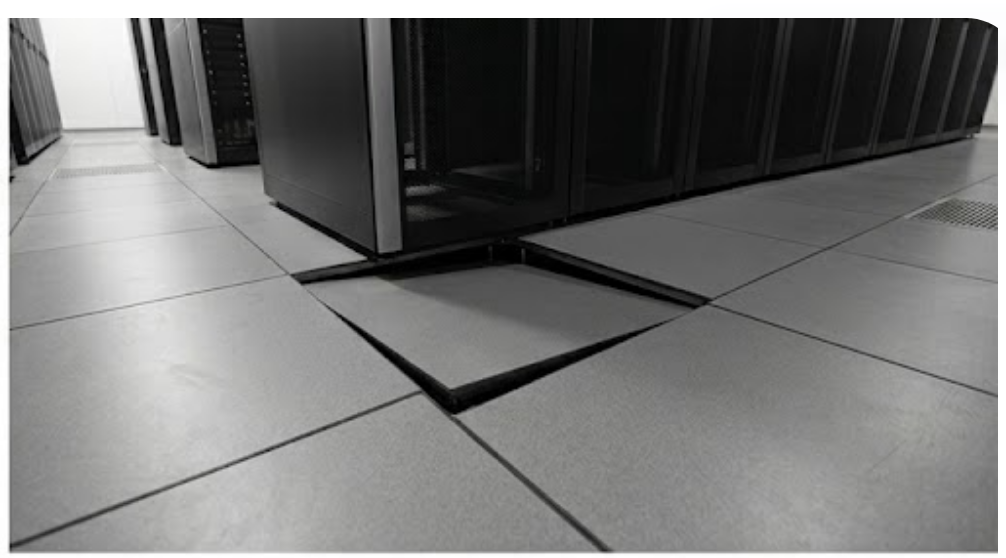floor_defect: (270, 200, 738, 423)
